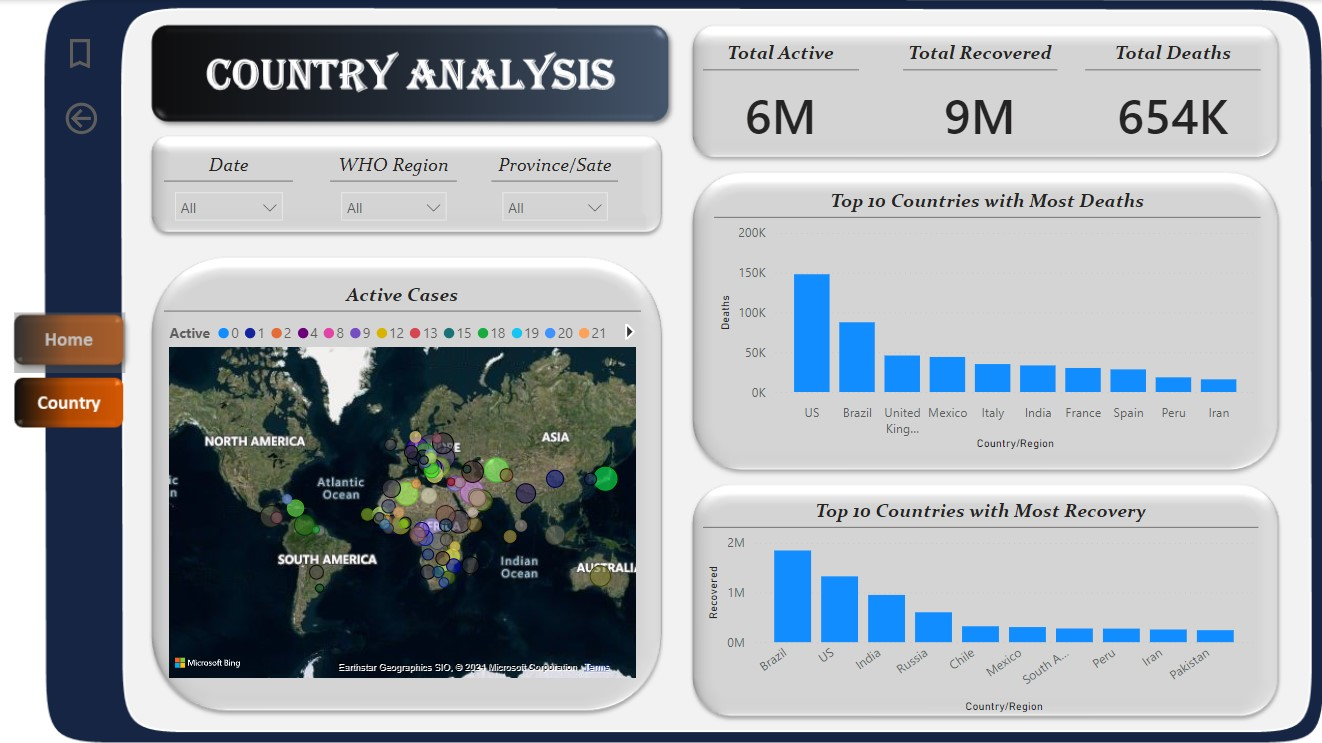

The page's visual inventory and layout, read from the dashboard file:
{"tool":"powerbi","page":{"name":"Country","canvas":[1280,720],"ordinal":1},"visuals":[{"type":"actionButton","box":[16.2,301.2,107.5,58.8],"z":0},{"type":"map","title":"Active Cases","fields":{"Category":["country_wise_latest.Country/Region"],"Series":["country_wise_latest.Active"],"Size":["Sum(country_wise_latest.Active)"]},"box":[160.5,272.7,459.7,386.1],"z":4000},{"type":"columnChart","title":"Top 10 Countries with Most Deaths","fields":{"Category":["country_wise_latest.Country/Region"],"Y":["Sum(country_wise_latest.Deaths)"]},"box":[691.3,182.2,527.2,255.8],"z":5000},{"type":"columnChart","title":"Top 10 Countries with Most Recovery","fields":{"Category":["country_wise_latest.Country/Region"],"Y":["Sum(country_wise_latest.Recovered)"]},"box":[680,481.2,536.2,210],"z":6000},{"type":"card","title":"Total Recovered","fields":{"Values":["Sum(country_wise_latest.Recovered)"]},"box":[873.8,40,148.8,110],"z":7000},{"type":"card","title":"Total Active","fields":{"Values":["Sum(country_wise_latest.Active)"]},"box":[680,40,150,110],"z":8000},{"type":"card","title":"Total Deaths","fields":{"Values":["Sum(country_wise_latest.Deaths)"]},"box":[1049.6,39.8,168.9,109.8],"z":9000},{"type":"slicer","title":"Date","fields":{"Values":["covid_19_clean_complete.Date.Variation.Date Hierarchy.Year","covid_19_clean_complete.Date.Variation.Date Hierarchy.Quarter","covid_19_clean_complete.Date.Variation.Date Hierarchy.Month","covid_19_clean_complete.Date.Variation.Date Hierarchy.Day"]},"box":[160.5,147.2,124.3,68.8],"z":10000},{"type":"slicer","title":"WHO Region","fields":{"Values":["covid_19_clean_complete.WHO Region"]},"box":[320.9,147.2,121.9,68.8],"z":11000},{"type":"slicer","title":"Province/Sate","fields":{"Values":["covid_19_clean_complete.Province/State"]},"box":[476.5,147.2,121.9,68.8],"z":12000},{"type":"actionButton","box":[60.3,31.4,37.4,39.8],"z":13000},{"type":"actionButton","box":[59.8,94.6,50.1,40.3],"z":14000}]}

Visuals, with their boxes in screenshot pixels (x1, y1, x2, y2), scaled from the page's 1280x720 canvas onto the 1322x743 screenshot:
actionButton: rect(17, 311, 128, 372)
"Active Cases" map: rect(166, 281, 641, 680)
"Top 10 Countries with Most Deaths" columnChart: rect(714, 188, 1258, 452)
"Top 10 Countries with Most Recovery" columnChart: rect(702, 497, 1256, 713)
"Total Recovered" card: rect(902, 41, 1056, 155)
"Total Active" card: rect(702, 41, 857, 155)
"Total Deaths" card: rect(1084, 41, 1258, 154)
"Date" slicer: rect(166, 152, 294, 223)
"WHO Region" slicer: rect(331, 152, 457, 223)
"Province/Sate" slicer: rect(492, 152, 618, 223)
actionButton: rect(62, 32, 101, 73)
actionButton: rect(62, 98, 114, 139)
